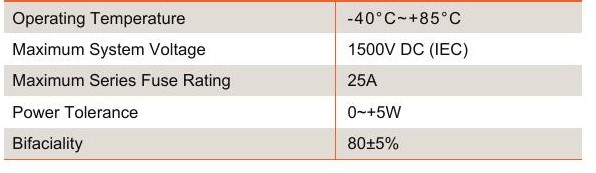table: (1, 1, 594, 167)
table column: (342, 1, 579, 161)
table row: (7, 1, 326, 160), (6, 98, 585, 126), (5, 3, 582, 31), (5, 67, 582, 94), (6, 131, 583, 158), (6, 36, 582, 62)
